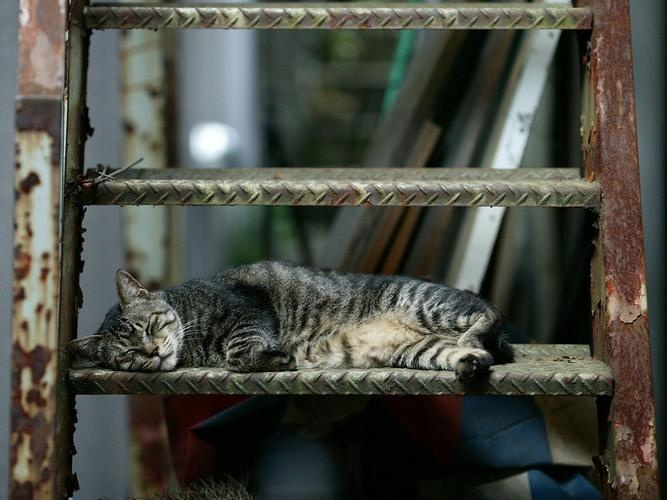cat: (68, 260, 516, 391)
